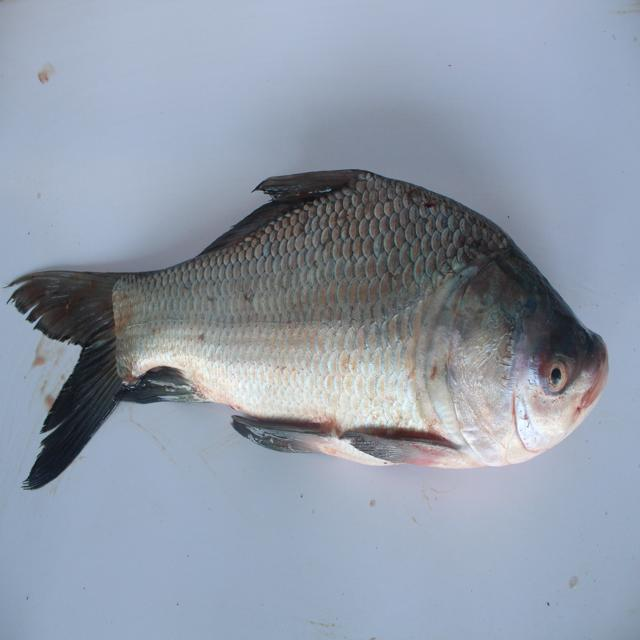Catla: (5, 169, 610, 492)
